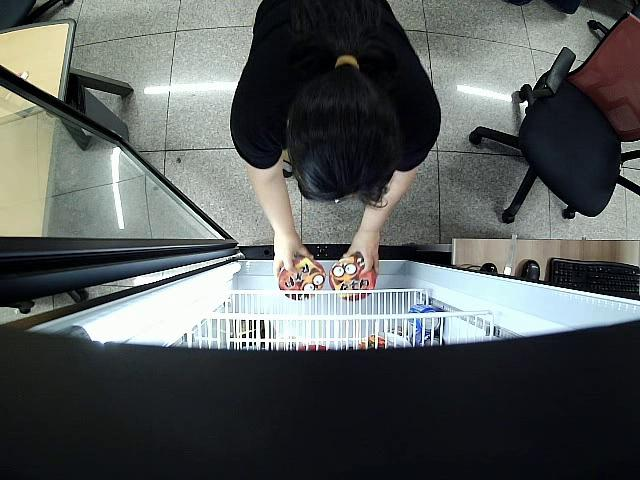00_hand: (271, 233, 316, 279), (341, 231, 382, 280)
05_nuguri_L: (275, 255, 325, 300), (329, 255, 376, 302)
